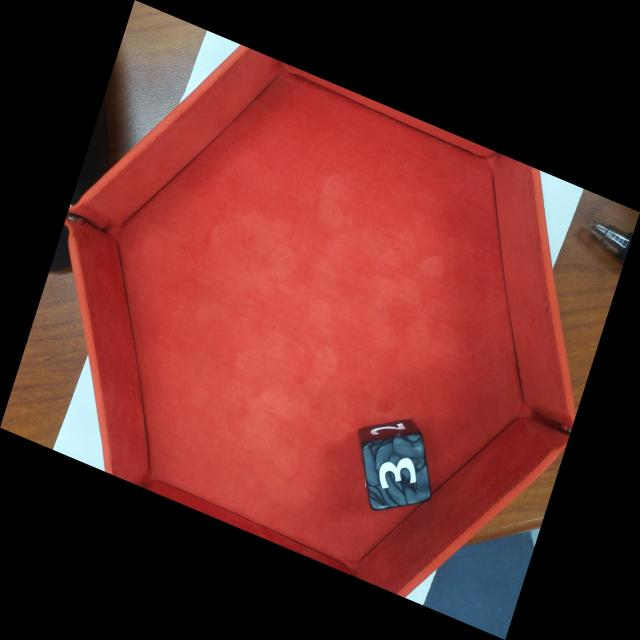dice: (360, 431, 435, 514)
